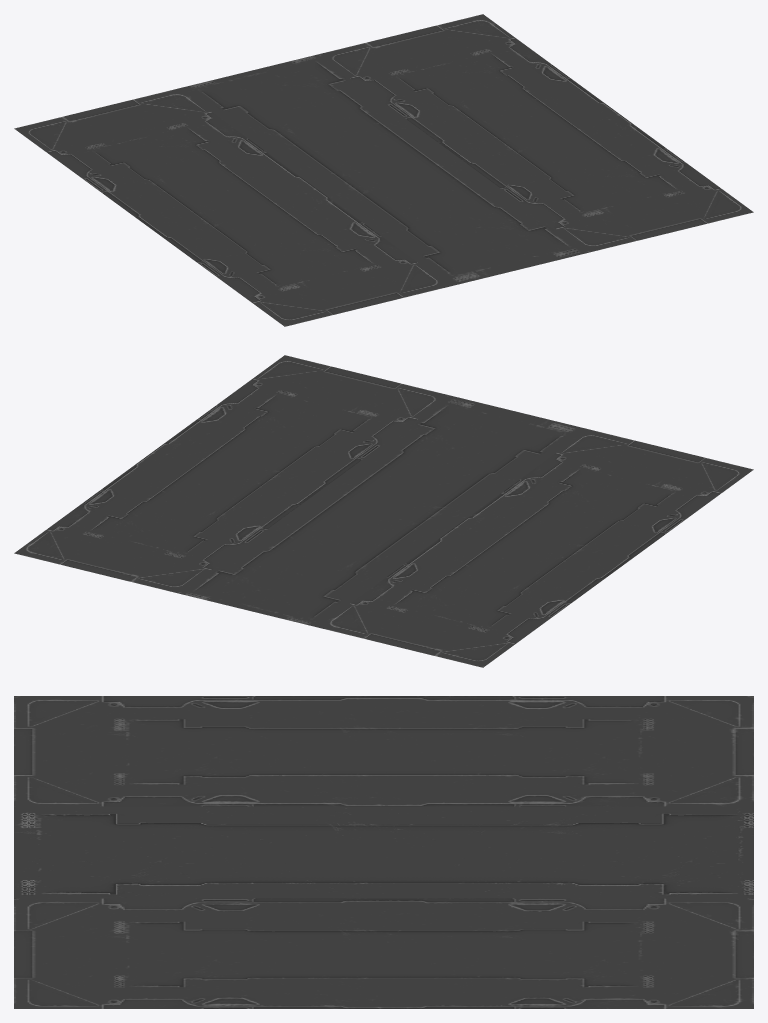
File: Platform_DarkPlates.gltf
The picture shows the model from 3 angles, top to bottom: view 1: azimuth 30°, elevation 25°; view 2: azimuth 150°, elevation 25°; view 3: azimuth 270°, elevation 25°; orthographic projection. The views are drawn at different scales.
Parts seen in each view (by area): view 1: Platform_DarkPlates; view 2: Platform_DarkPlates; view 3: Platform_DarkPlates.
Boxes of the visible parts, left/top/right/bottom form: Platform_DarkPlates: left=14, top=14, right=753, bottom=326; Platform_DarkPlates: left=14, top=355, right=753, bottom=667; Platform_DarkPlates: left=14, top=696, right=753, bottom=1008.
Size of the model in its own units: 4 by 0 by 4.
1 material, 1 textured.
